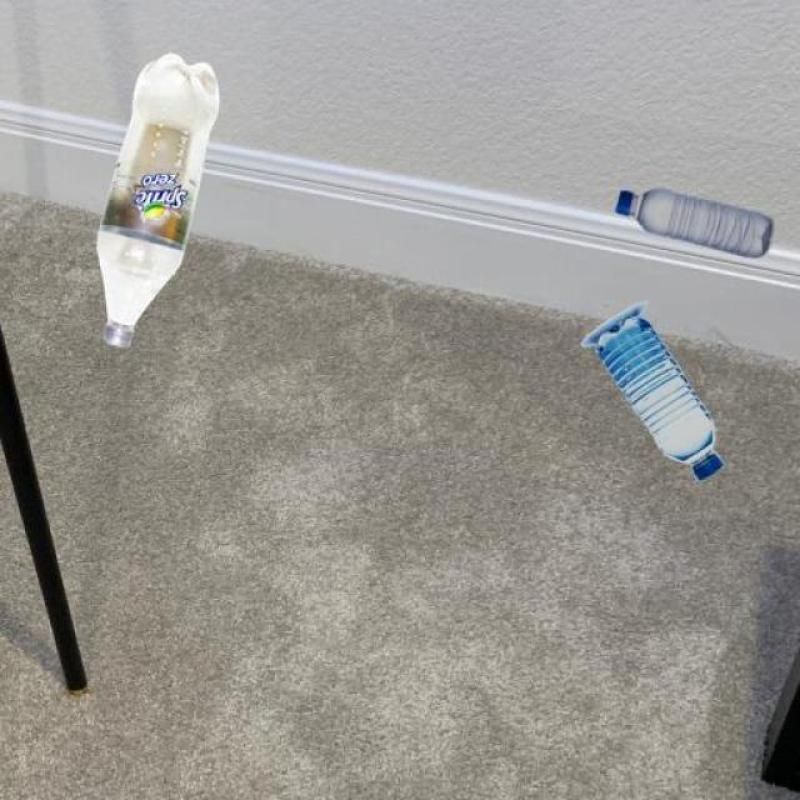botella: (100, 55, 230, 350), (590, 313, 722, 485), (616, 185, 772, 264)
